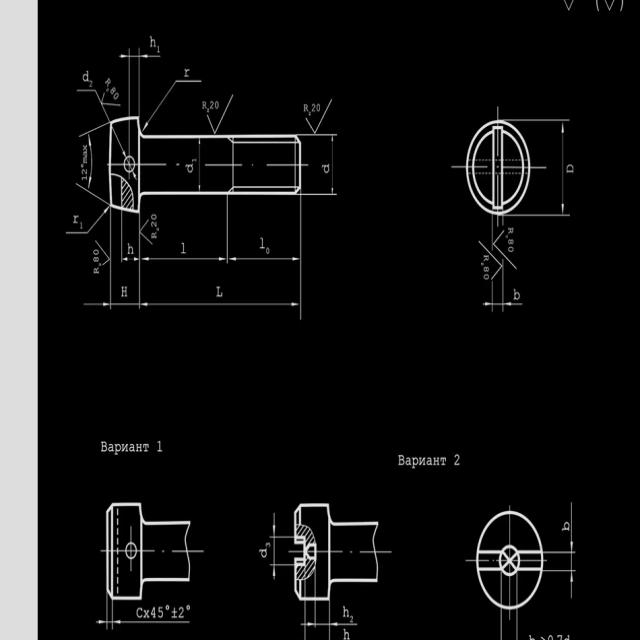marking_line: (138, 262, 302, 319), (84, 212, 142, 307), (225, 195, 302, 265), (138, 213, 229, 265), (476, 216, 523, 314), (531, 118, 570, 217), (544, 503, 577, 605), (143, 79, 202, 132), (95, 601, 191, 631), (120, 48, 161, 117), (302, 133, 338, 196), (301, 601, 359, 640), (269, 512, 294, 580), (65, 207, 110, 237), (120, 211, 141, 263), (87, 133, 95, 190), (114, 128, 126, 158), (197, 140, 201, 191), (132, 171, 137, 182)
numeric: (149, 35, 156, 49), (127, 241, 134, 255), (513, 288, 520, 301), (321, 163, 330, 173), (216, 286, 224, 297), (259, 548, 267, 559), (83, 69, 89, 83), (342, 606, 349, 618), (343, 628, 350, 640), (121, 285, 127, 298), (178, 606, 184, 619), (186, 164, 194, 173), (454, 454, 460, 466), (158, 606, 164, 618), (157, 441, 163, 452), (105, 77, 111, 87), (137, 606, 142, 618), (182, 241, 186, 255), (260, 237, 265, 248), (303, 103, 309, 112), (184, 68, 190, 77), (151, 606, 155, 619), (209, 100, 214, 110), (507, 227, 514, 234), (110, 86, 116, 94), (114, 92, 120, 100), (266, 246, 271, 255), (483, 254, 489, 261), (483, 273, 489, 280), (265, 542, 272, 548), (316, 102, 320, 112), (202, 101, 207, 109), (82, 168, 87, 176), (191, 158, 197, 164), (508, 239, 514, 245), (508, 246, 514, 252), (483, 267, 490, 272), (312, 104, 316, 112), (350, 615, 354, 623), (82, 175, 87, 181), (89, 80, 93, 87), (83, 157, 87, 164), (83, 144, 87, 151), (215, 100, 218, 109), (157, 46, 160, 53), (83, 152, 87, 156), (308, 111, 311, 116), (207, 108, 209, 113)
special_symbol: (205, 113, 225, 133), (493, 230, 506, 254), (141, 219, 152, 243), (491, 256, 502, 279), (307, 117, 322, 133), (563, 0, 574, 12), (604, 0, 616, 11), (102, 255, 110, 268), (101, 92, 108, 106), (171, 606, 178, 619), (594, 0, 600, 12), (619, 0, 624, 12), (144, 609, 150, 618), (171, 607, 177, 616), (186, 605, 190, 612), (80, 162, 84, 168), (166, 605, 170, 611), (105, 88, 109, 92), (481, 263, 484, 266)
